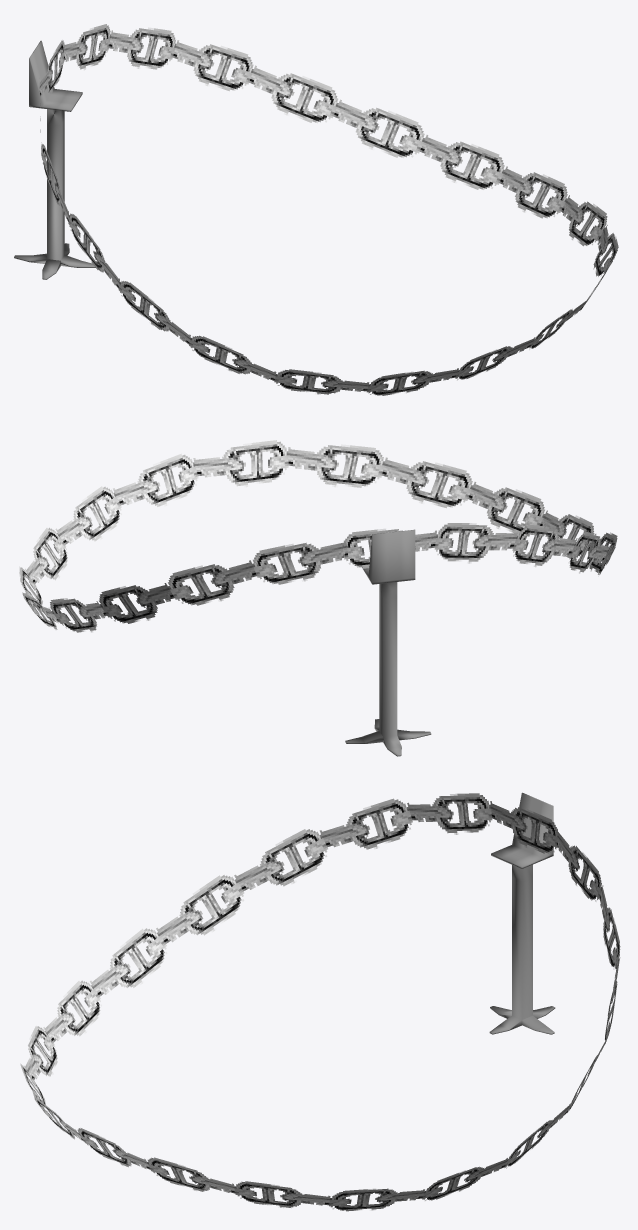
The model's file is porto_bracelet_sterling_silver_14.glb.
The picture shows the model from 3 angles, top to bottom: view 1: azimuth 30°, elevation 25°; view 2: azimuth 150°, elevation 25°; view 3: azimuth 270°, elevation 25°; orthographic projection. The views are drawn at different scales.
Parts seen in each view (by area): view 1: Cube; view 2: Cube; view 3: Cube.
Boxes of the visible parts, left/top/right/bottom form: Cube: left=14, top=24, right=618, bottom=395; Cube: left=19, top=440, right=617, bottom=756; Cube: left=20, top=792, right=620, bottom=1211.
Bounding box in the file's own units: 3.35 × 1.33 × 3.35.
Materials: 2 (1 with a texture image).
